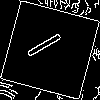I: (25, 25, 71, 60)
